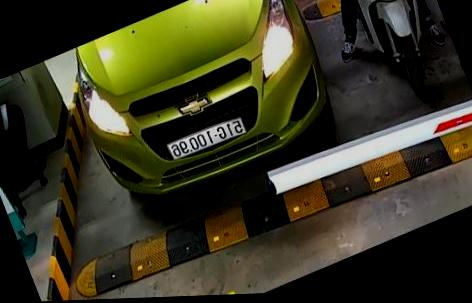License_Plate: (164, 115, 248, 165)
